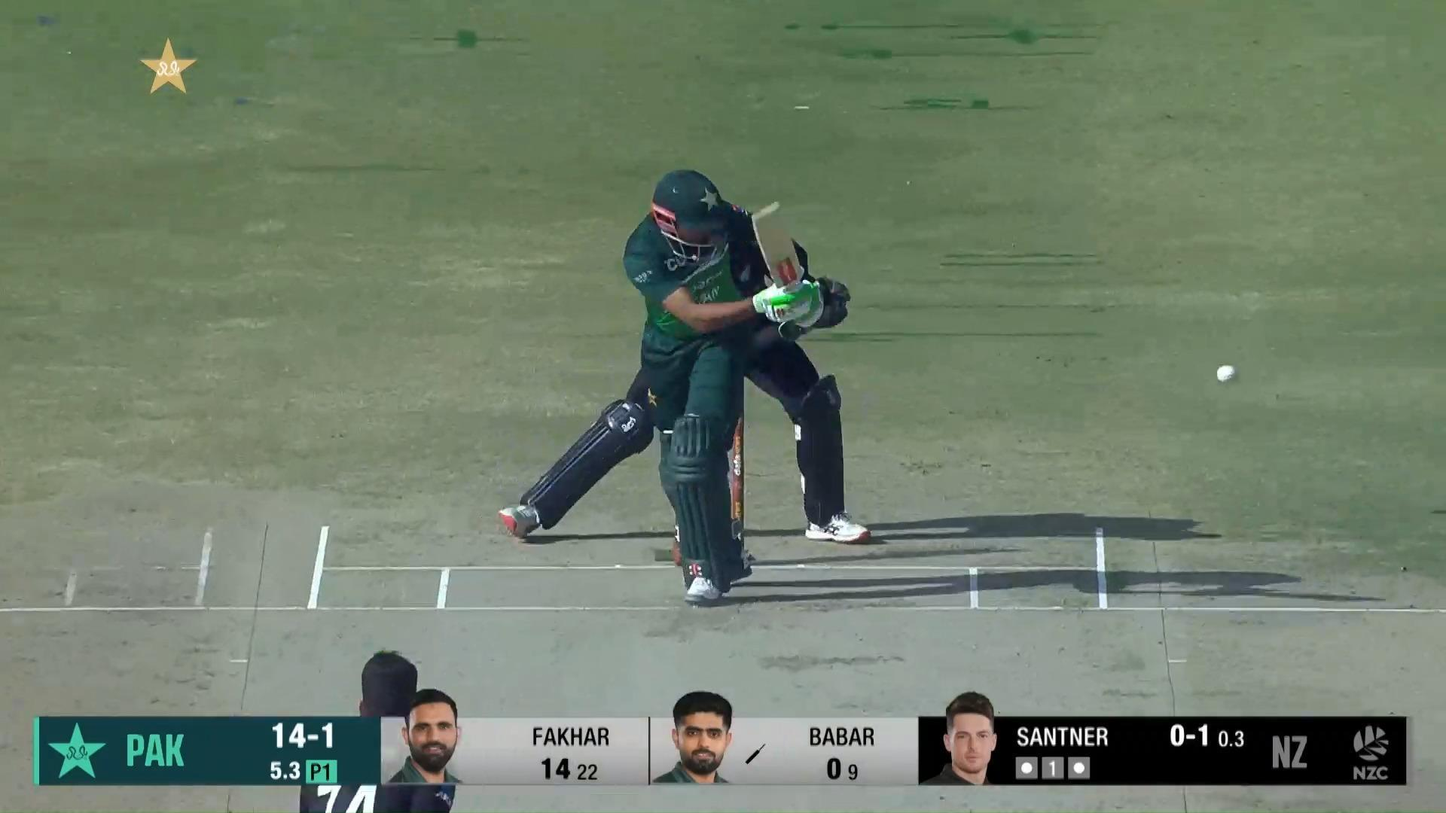BM 1: (623, 169, 825, 605)
BO: (297, 647, 458, 813)
